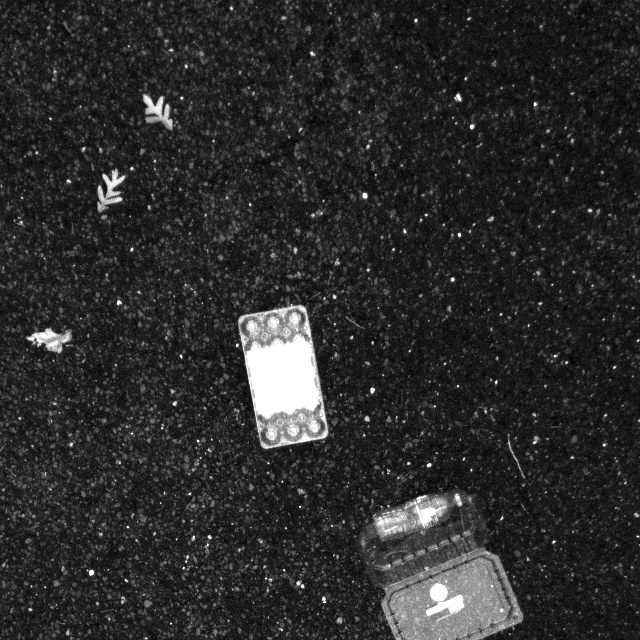container: (361, 482, 531, 640), (235, 297, 330, 459)
